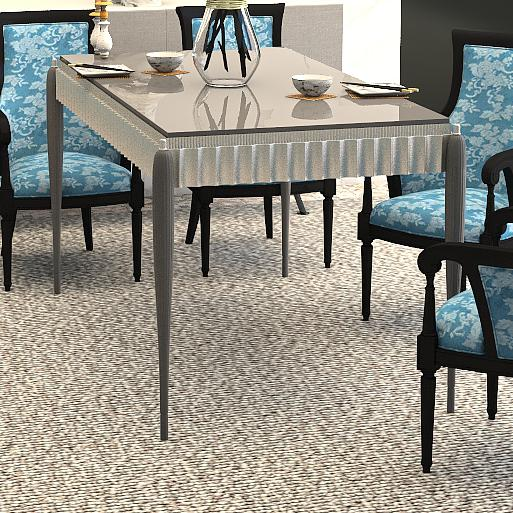table: (44, 44, 469, 415)
